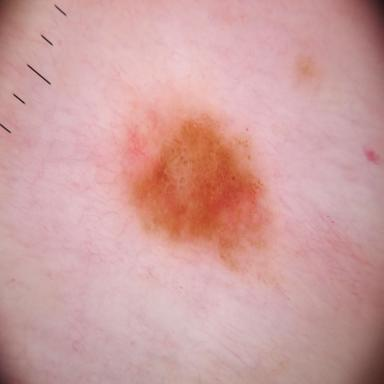nevus: (122, 98, 278, 283)
